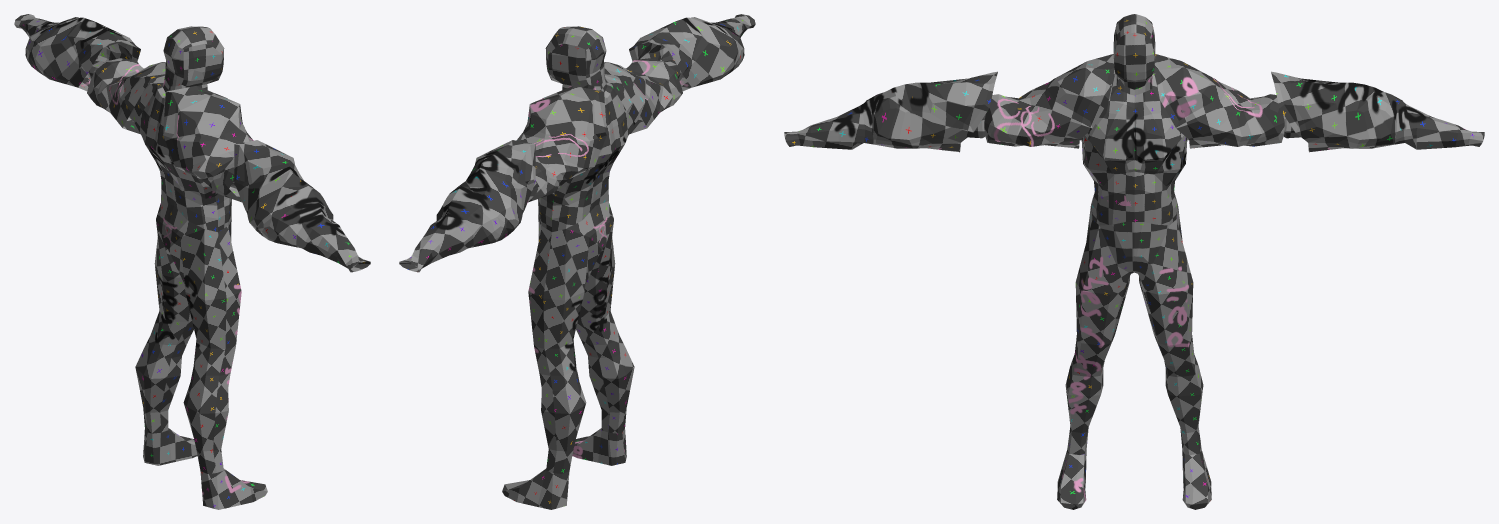
File: warden_test.fbx
3 renders of one model, left to right at view 1: azimuth 30°, elevation 25°; view 2: azimuth 150°, elevation 25°; view 3: azimuth 270°, elevation 25°, orthographic. The views are drawn at different scales.
Visible parts, largest first — view 1: Cube, Gun Arms, ArmorArms; view 2: Cube, Gun Arms, ArmorArms; view 3: Cube, Gun Arms, ArmorArms.
Boxes of the visible parts, left/top/right/bottom form: Cube: left=87, top=26, right=267, bottom=509; Gun Arms: left=14, top=14, right=370, bottom=272; ArmorArms: left=87, top=58, right=253, bottom=202; Cube: left=502, top=26, right=682, bottom=509; Gun Arms: left=399, top=14, right=755, bottom=272; ArmorArms: left=516, top=58, right=682, bottom=202; Cube: left=968, top=14, right=1300, bottom=509; Gun Arms: left=784, top=71, right=1484, bottom=152; ArmorArms: left=984, top=54, right=1284, bottom=148.
Bounding box in the file's own units: 132 × 619 × 837.
